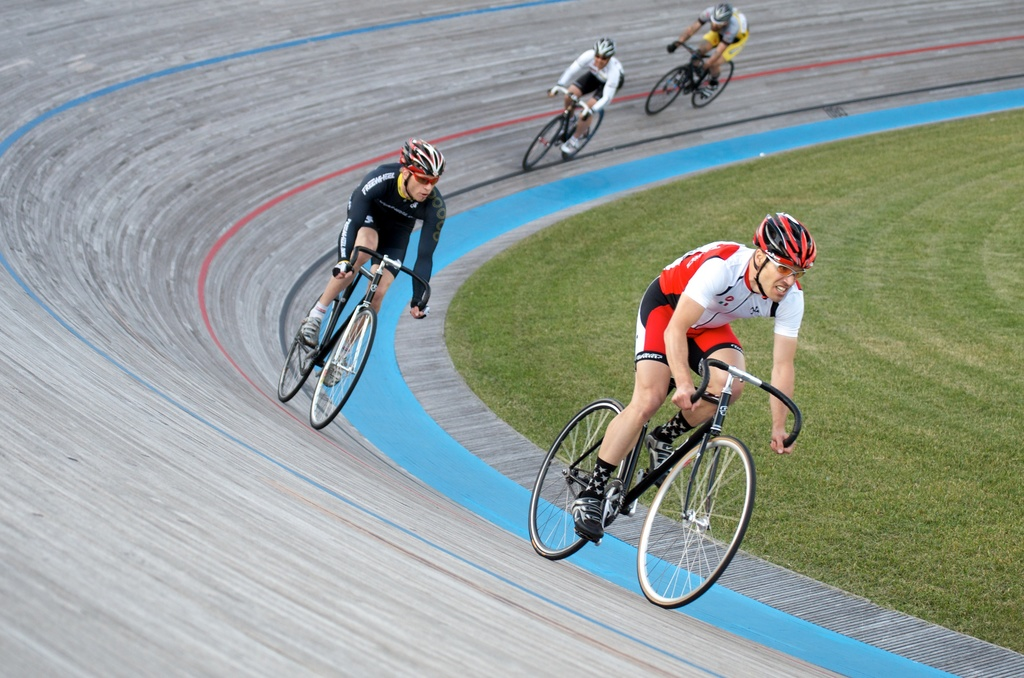Bike: (538, 361, 841, 647)
